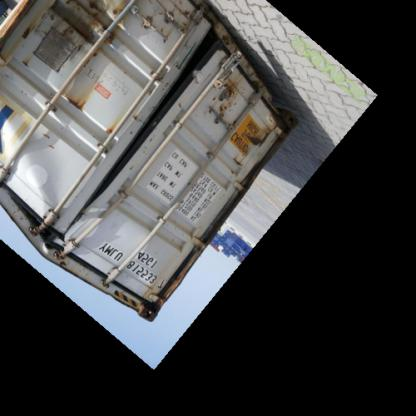Damage: (7, 157, 73, 258), (160, 16, 222, 108), (74, 3, 134, 62), (106, 278, 180, 324), (204, 78, 248, 134), (13, 13, 46, 78), (58, 91, 96, 121), (254, 116, 284, 152)
